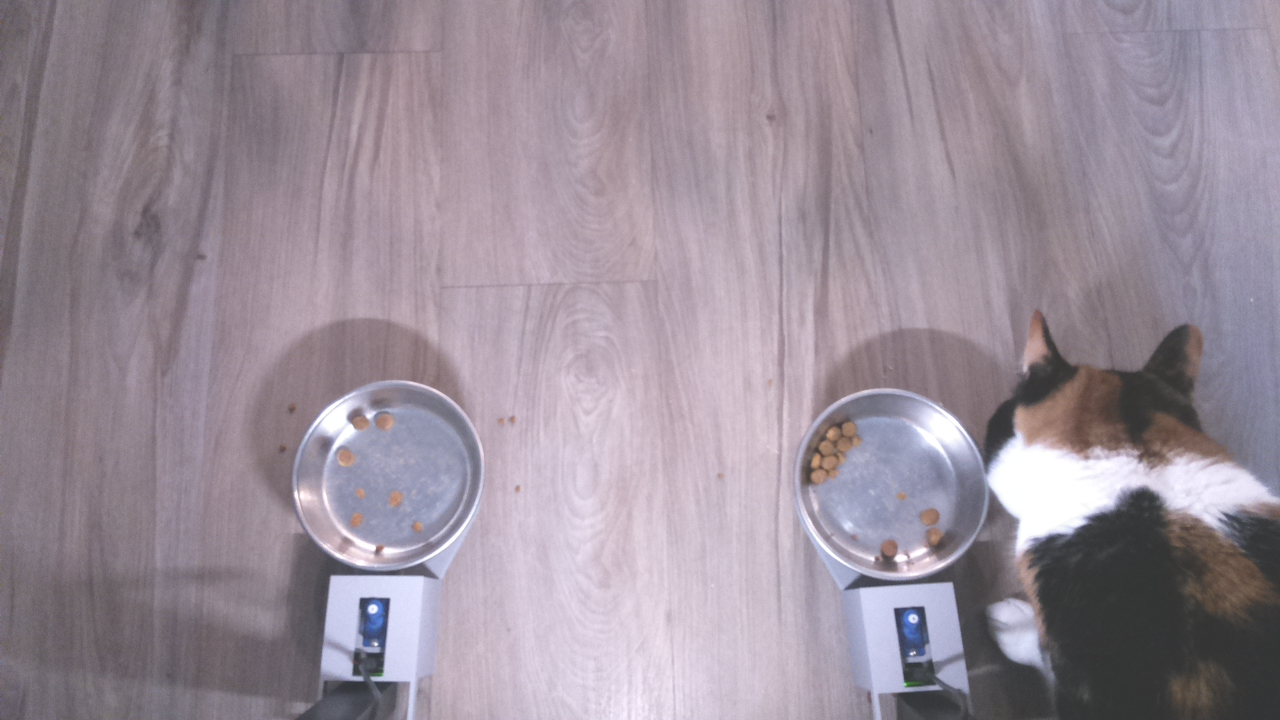bella: (979, 305, 1254, 530)
open_bowl: (791, 379, 992, 583), (294, 373, 484, 575)
